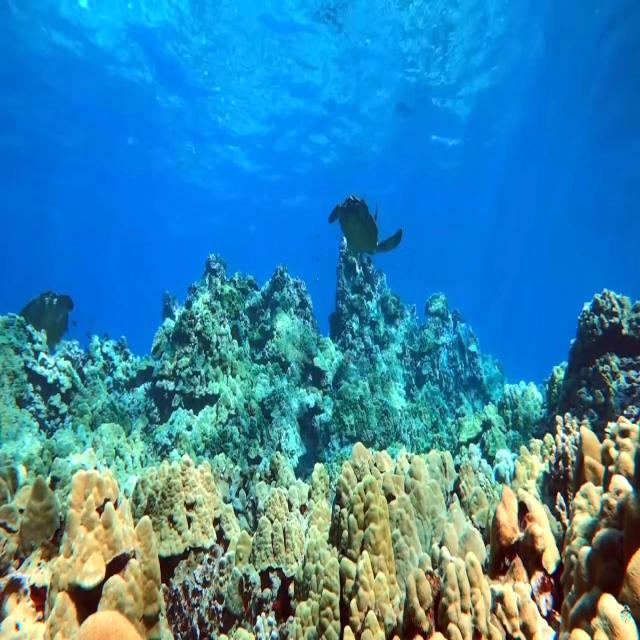Sea turtle: (328, 192, 406, 262)
